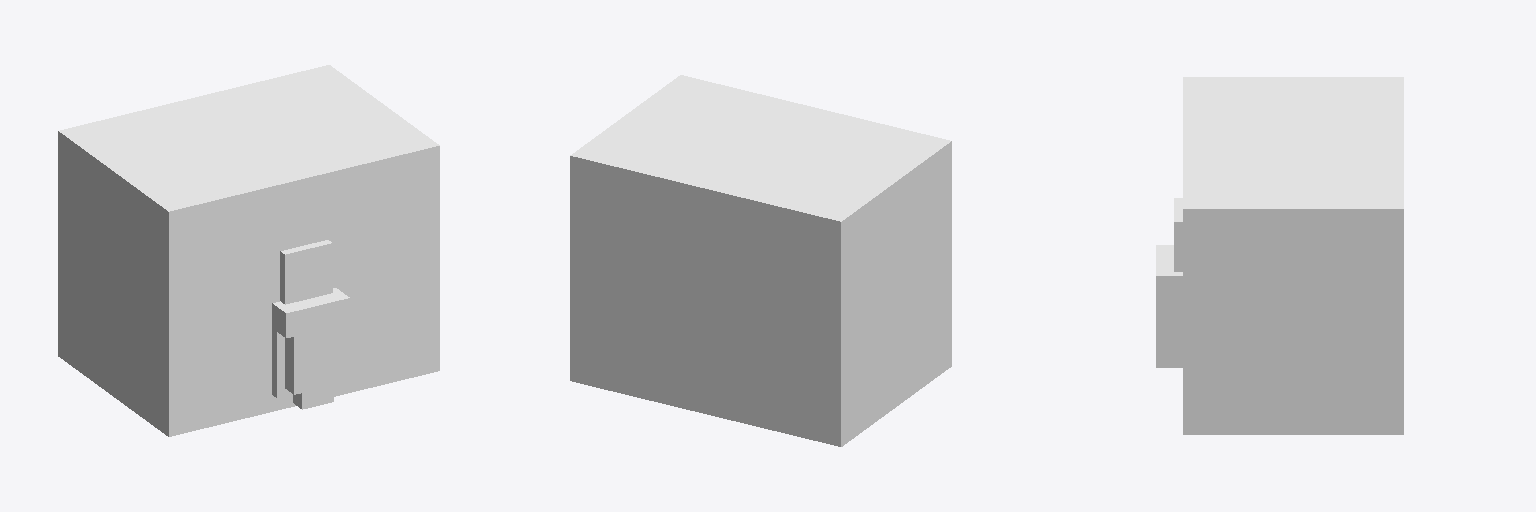
File: seller-5.obj
3 views of the same model, side by side, from view 1: azimuth 30°, elevation 25°; view 2: azimuth 150°, elevation 25°; view 3: azimuth 270°, elevation 25° (orthographic).
Parts seen in each view (by area): view 1: object 1; view 2: object 1; view 3: object 1.
Boxes of the visible parts, x1=… form: object 1: x1=58, y1=65, x2=439, y2=436; object 1: x1=570, y1=75, x2=951, y2=446; object 1: x1=1156, y1=77, x2=1403, y2=434.
Size of the model in its own units: 3.4 by 2.7 by 2.7.